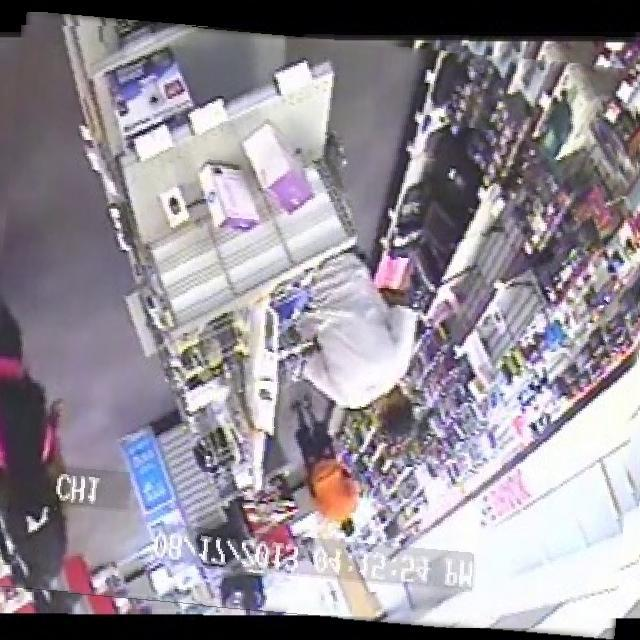Normal: (0, 25, 640, 628)
